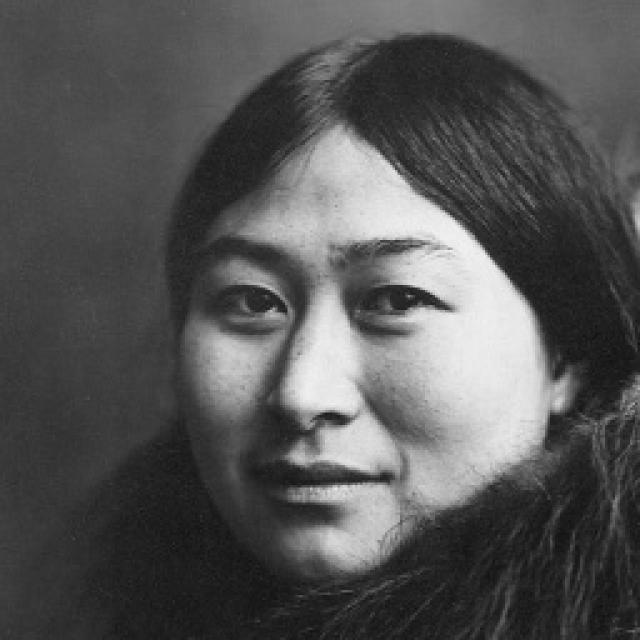no-glasses: (193, 260, 462, 344)
